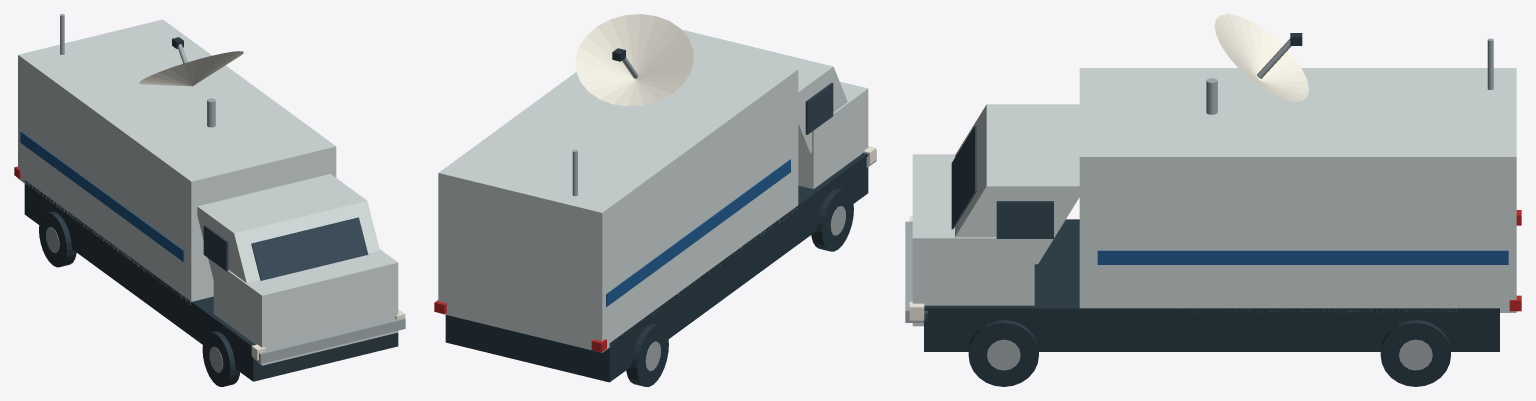
Rendered from scendance-plan-outside-broadcast-truck.glb.
The picture shows the model from 3 angles, left to right: view 1: azimuth 30°, elevation 25°; view 2: azimuth 150°, elevation 25°; view 3: azimuth 270°, elevation 25°; orthographic projection. The views are drawn at different scales.
Size of the model in its own units: 2.63 by 4.02 by 7.16.
